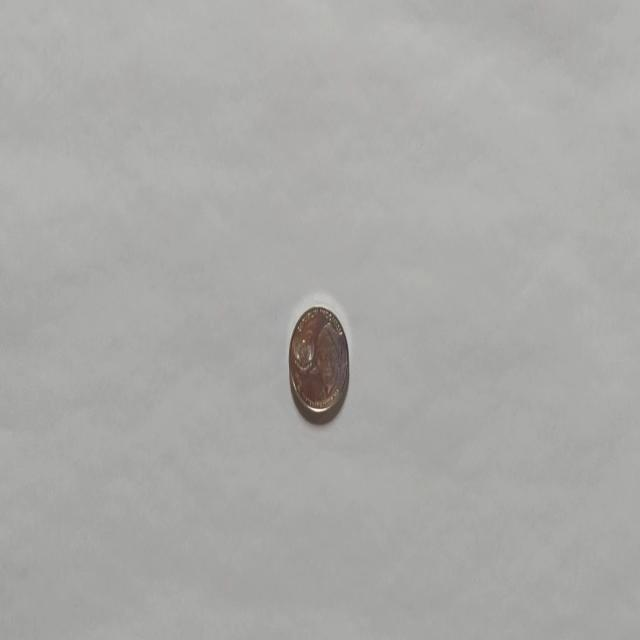dua ratus rupiah: (286, 303, 350, 424)
